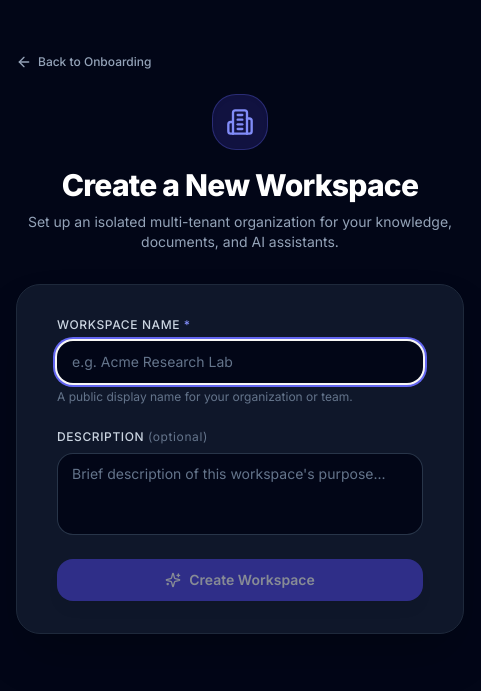
Test: WS-A8: Create & Join Workspace Workflows › Create Workspace Workflow (/workspaces/new) › 2. Enforces validation for required and length-bounded workspace name
Expected: the button "Create Workspace" is disabled, [57,559,423,601]
// Min length 2
In the field labelled "Workspace Name *": (240, 362) [57,341,423,383], type "A"
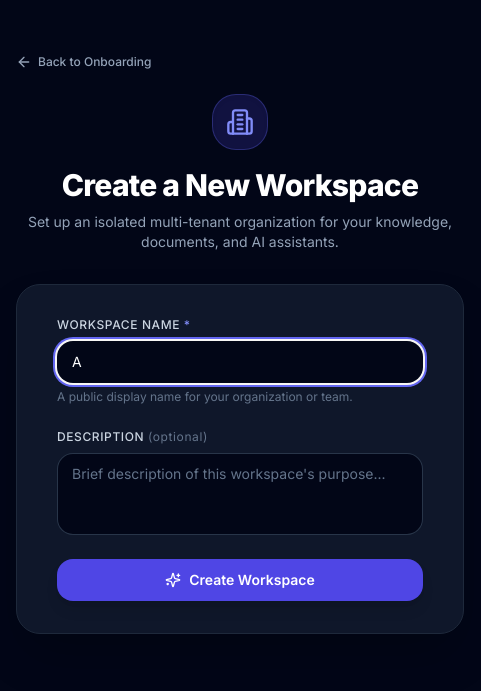
Result: the button "Create Workspace" is enabled
Click the button "Create Workspace": (240, 580) [57,559,423,601]
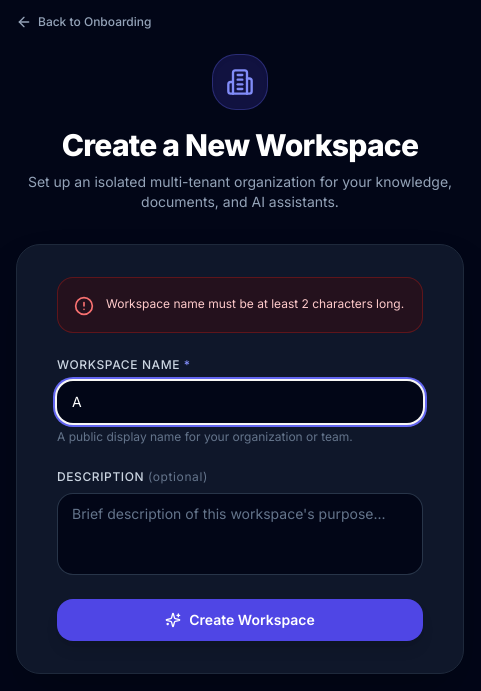
Result: the text "Workspace name must be at least 2 characters long." is shown at [106,294,404,314]
